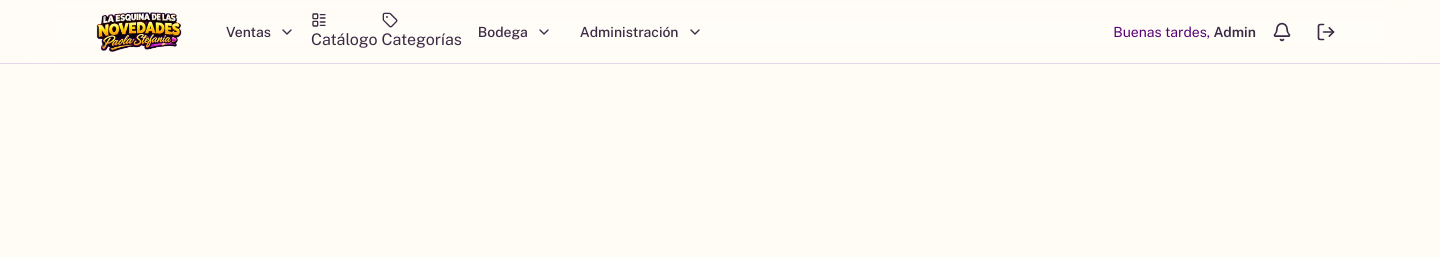
Test case: TopNav — solo MVP (dropdowns abiertos) › dropdown Bodega › SI contiene los 2 sub-items (Despachos diferido)
The width and height of the screenshot is (1440, 257).
Hover over the button "Bodega" at [515, 32], box [466,14,564,50]
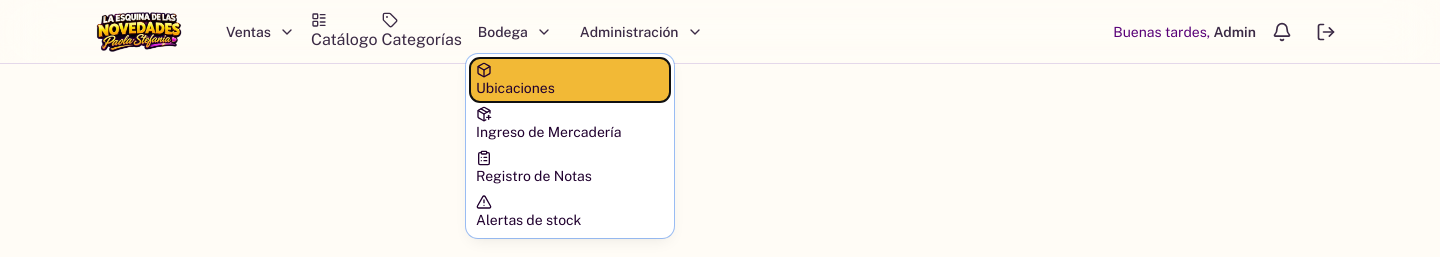
Expected: the link "Ubicaciones" is shown, [476,62,555,98]
Expected: the link "Registro de Notas" is shown, [476,150,592,186]
